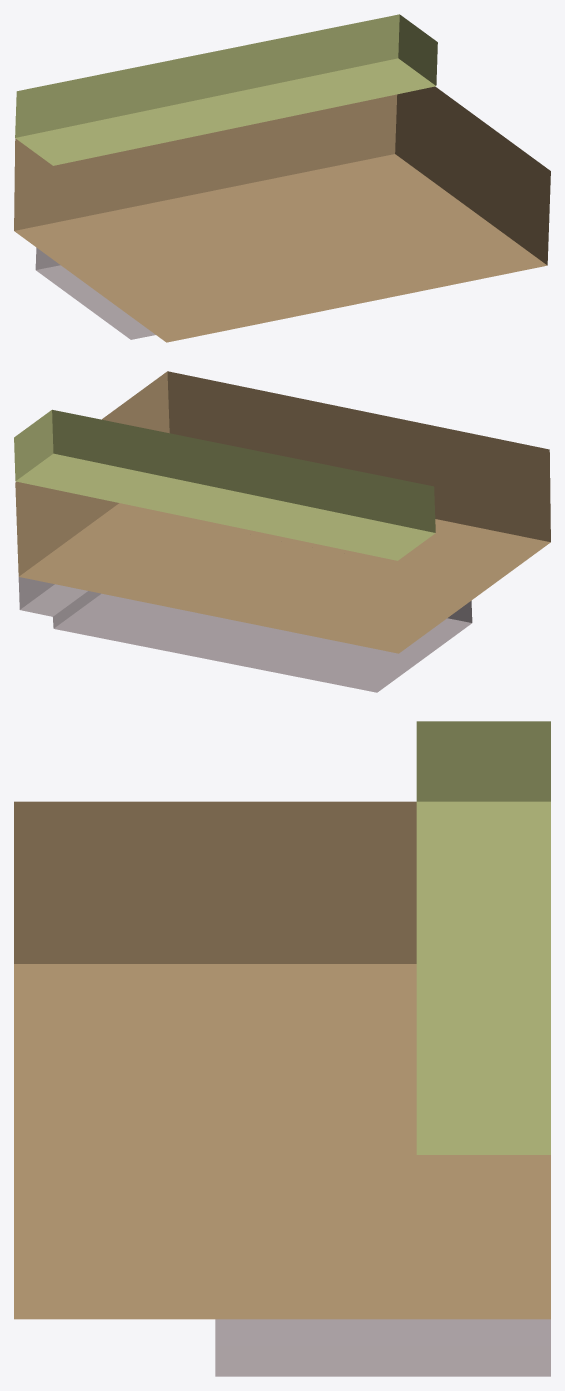
The picture shows the model from 3 angles, top to bottom: view 1: azimuth 30°, elevation 25°; view 2: azimuth 150°, elevation 25°; view 3: azimuth 270°, elevation 25°; orthographic projection. The views are drawn at different scales.
Parts seen in each view (by area): view 1: 0_3_2_0_0_1_2; view 2: 0_3_2_0_0_1_2; view 3: 0_3_2_0_0_1_2.
Part boxes in pixels (x1,y1,x2,y2): 0_3_2_0_0_1_2: [14, 14, 550, 342]; 0_3_2_0_0_1_2: [14, 371, 550, 692]; 0_3_2_0_0_1_2: [14, 721, 550, 1376].
Size of the model in its own units: 35.04 by 17.24 by 24.
